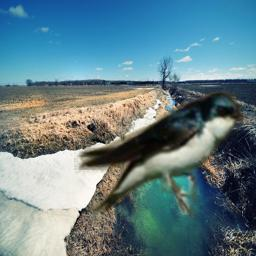Swallow: (74, 90, 243, 220)
